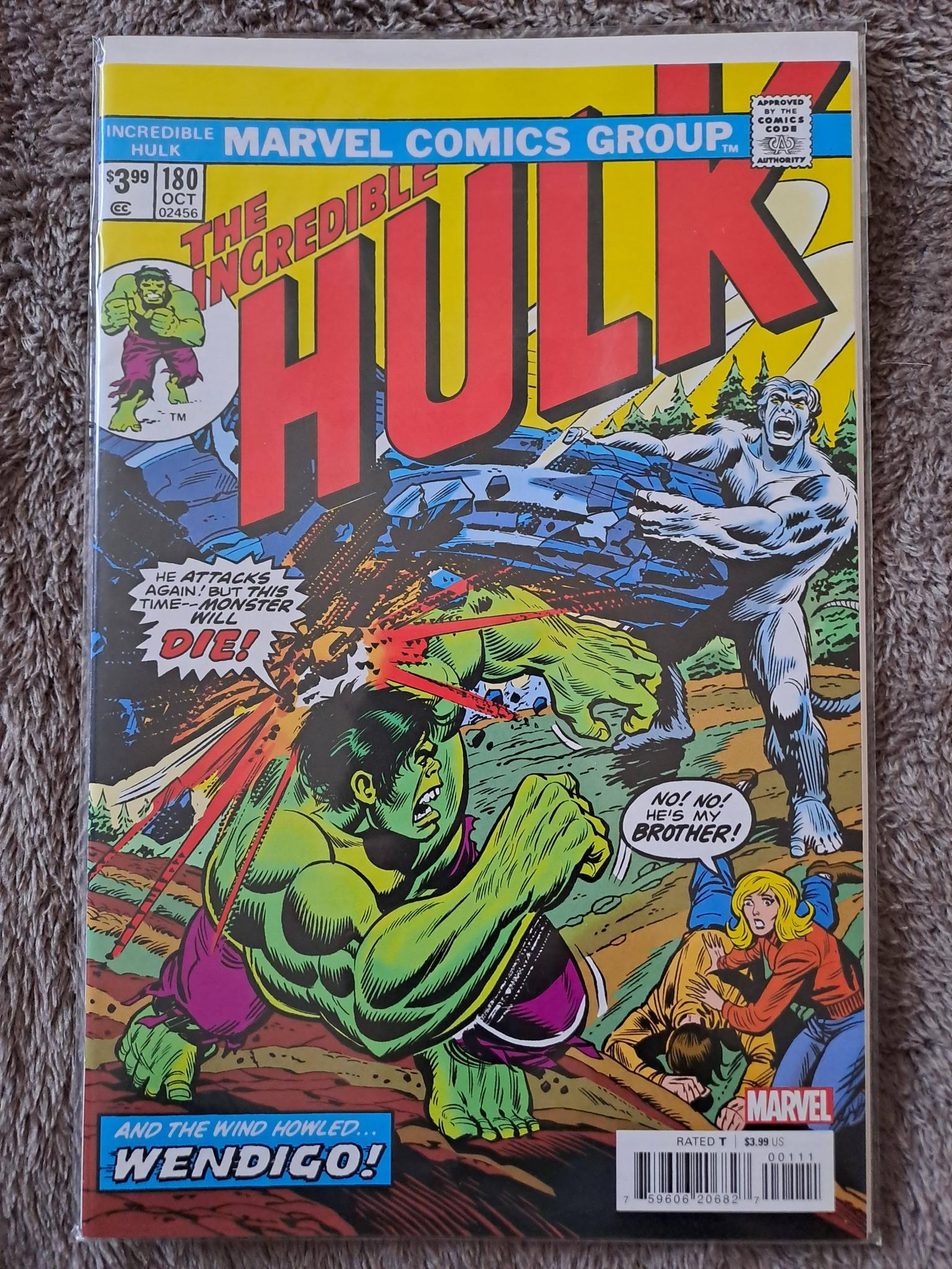comic: (82, 30, 872, 1239)
